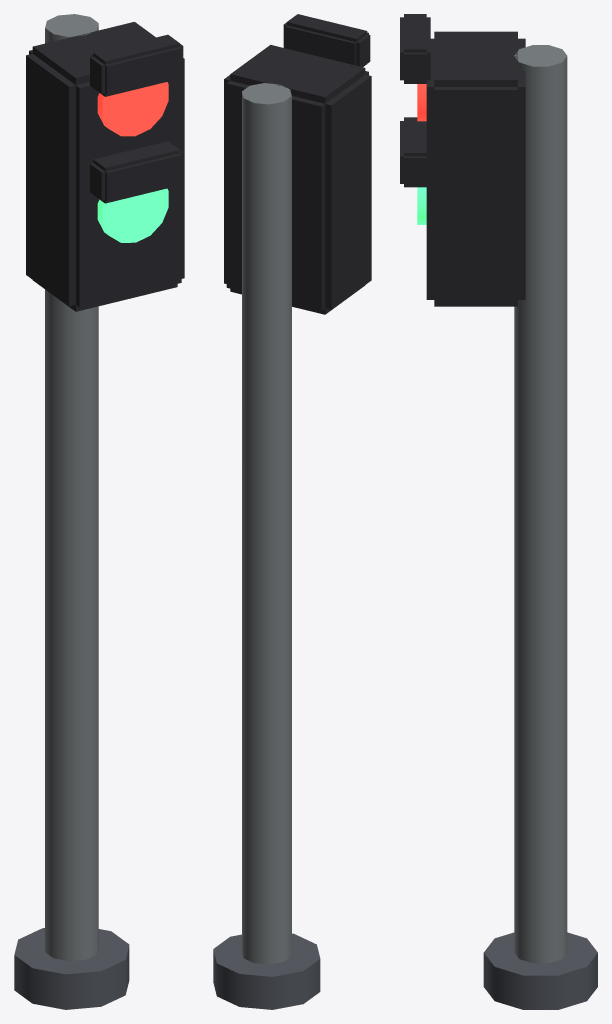
File: traffic_light_ped.glb
The picture shows the model from 3 angles, left to right: view 1: azimuth 30°, elevation 25°; view 2: azimuth 150°, elevation 25°; view 3: azimuth 270°, elevation 25°; orthographic projection. The views are drawn at different scales.
Visible parts, largest first — view 1: light_mesh; view 2: light_mesh; view 3: light_mesh.
Boxes of the visible parts, left/top/right/bottom form: light_mesh: left=14, top=14, right=184, bottom=1009; light_mesh: left=213, top=14, right=371, bottom=1009; light_mesh: left=400, top=14, right=597, bottom=1009.
Size of what is drawn, in the model's own units: 0.34 by 2.77 by 0.52.
